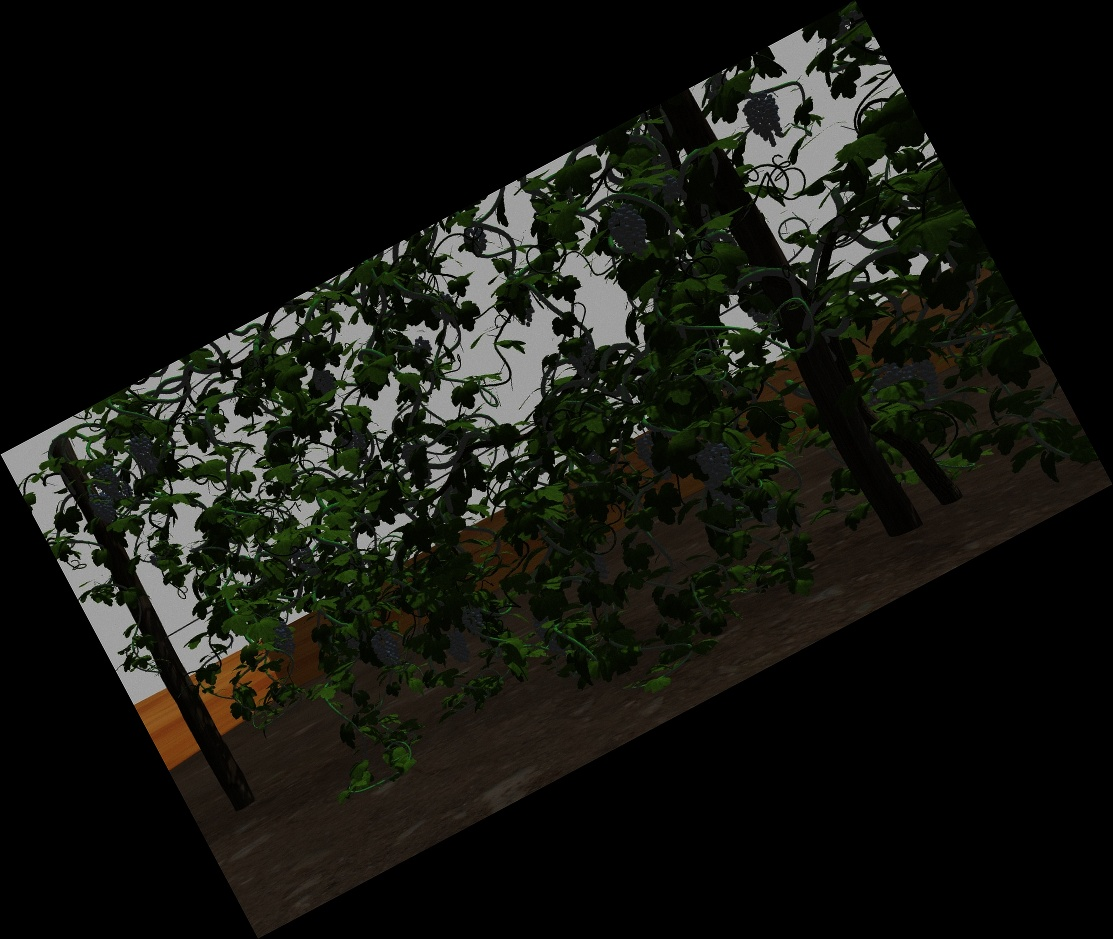grape: (613, 204, 649, 261), (749, 98, 782, 142), (702, 444, 735, 484), (912, 362, 940, 400), (133, 433, 155, 474), (374, 630, 399, 666), (95, 464, 118, 498), (446, 629, 467, 664), (273, 623, 294, 655), (93, 493, 114, 523), (315, 369, 335, 393), (465, 610, 484, 634)
